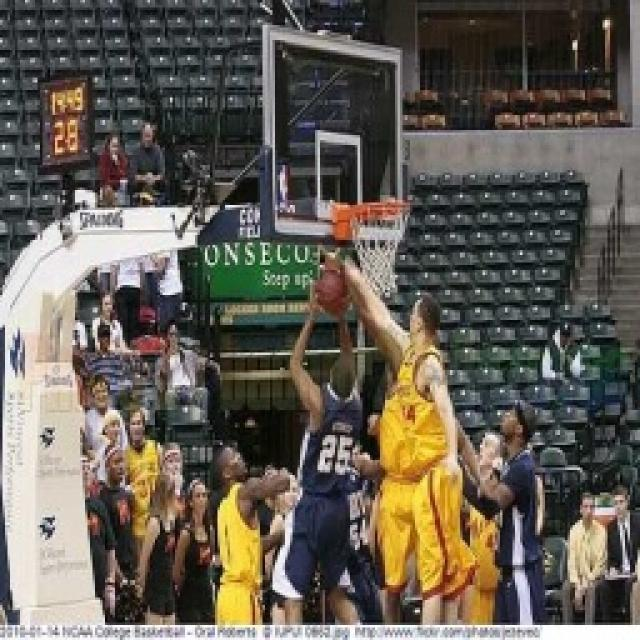basketball: (312, 258, 354, 316)
